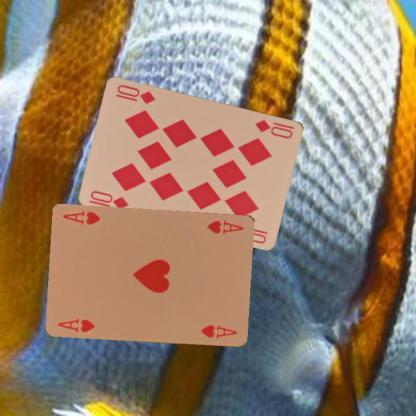10d: (252, 116, 296, 140), (88, 187, 130, 211)
Ah: (54, 315, 96, 334), (204, 218, 245, 236)
